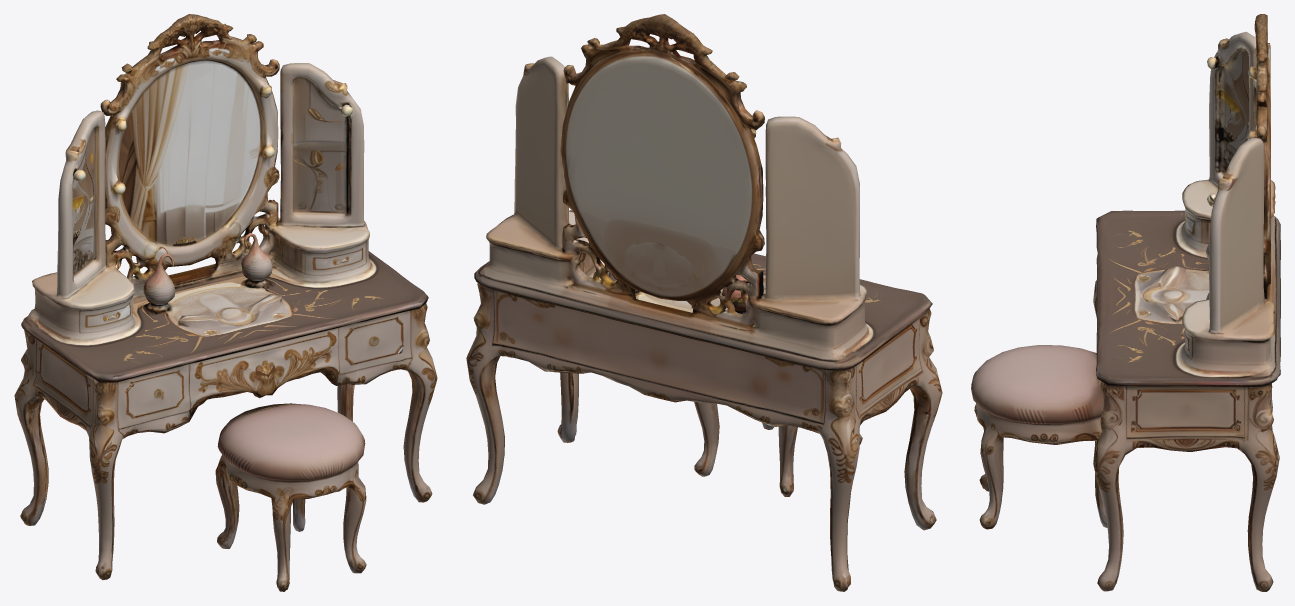
The model's file is base_basic_pbr.fbx.
3 renders of one model, left to right at view 1: azimuth 30°, elevation 25°; view 2: azimuth 150°, elevation 25°; view 3: azimuth 270°, elevation 25°, orthographic. The views are drawn at different scales.
Parts seen in each view (by area): view 1: model; view 2: model; view 3: model.
Boxes of the visible parts, x1,y1,x2,y2 form: model: (14, 14, 437, 591); model: (466, 14, 942, 591); model: (971, 14, 1280, 591).
Bounding box in the file's own units: 136 × 177 × 101.
1 material, 1 textured.
